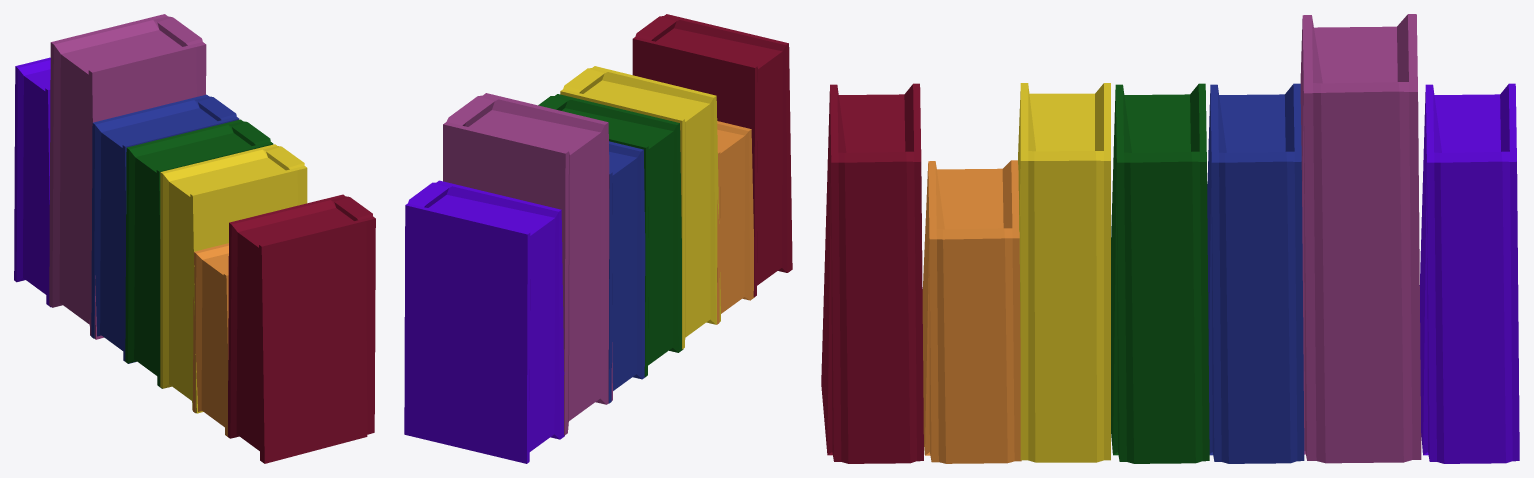
The model's file is book.fbx.
3 views of the same model, side by side, from view 1: azimuth 30°, elevation 25°; view 2: azimuth 150°, elevation 25°; view 3: azimuth 270°, elevation 25° (orthographic). The views are drawn at different scales.
Parts seen in each view (by area): view 1: Cube.005, Cube.004, Cube, Cube.001, Cube.002, Cube.006, Cube.003; view 2: Cube.006, Cube.004, Cube.005, Cube, Cube.001, Cube.002, Cube.003; view 3: Cube.004, Cube.005, Cube.006, Cube.001, Cube.002, Cube, Cube.003.
Part boxes in pixels (<box>): Cube.005: <box>228,194,375,463</box>; Cube.004: <box>49,14,206,339</box>; Cube: <box>160,144,307,413</box>; Cube.001: <box>125,119,273,388</box>; Cube.002: <box>91,94,239,363</box>; Cube.006: <box>14,57,51,307</box>; Cube.003: <box>193,243,229,438</box>; Cube.006: <box>404,180,564,463</box>; Cube.004: <box>443,93,612,435</box>; Cube.005: <box>632,14,792,297</box>; Cube: <box>560,66,720,349</box>; Cube.001: <box>538,94,683,376</box>; Cube.002: <box>608,141,645,403</box>; Cube.003: <box>716,121,754,324</box>; Cube.004: <box>1300,14,1421,463</box>; Cube.005: <box>821,83,923,463</box>; Cube.006: <box>1419,83,1519,463</box>; Cube.001: <box>1111,83,1209,463</box>; Cube.002: <box>1207,83,1304,463</box>; Cube: <box>1018,83,1110,462</box>; Cube.003: <box>922,160,1021,463</box>.
Bounding box in the file's own units: 204 × 446 × 758.
